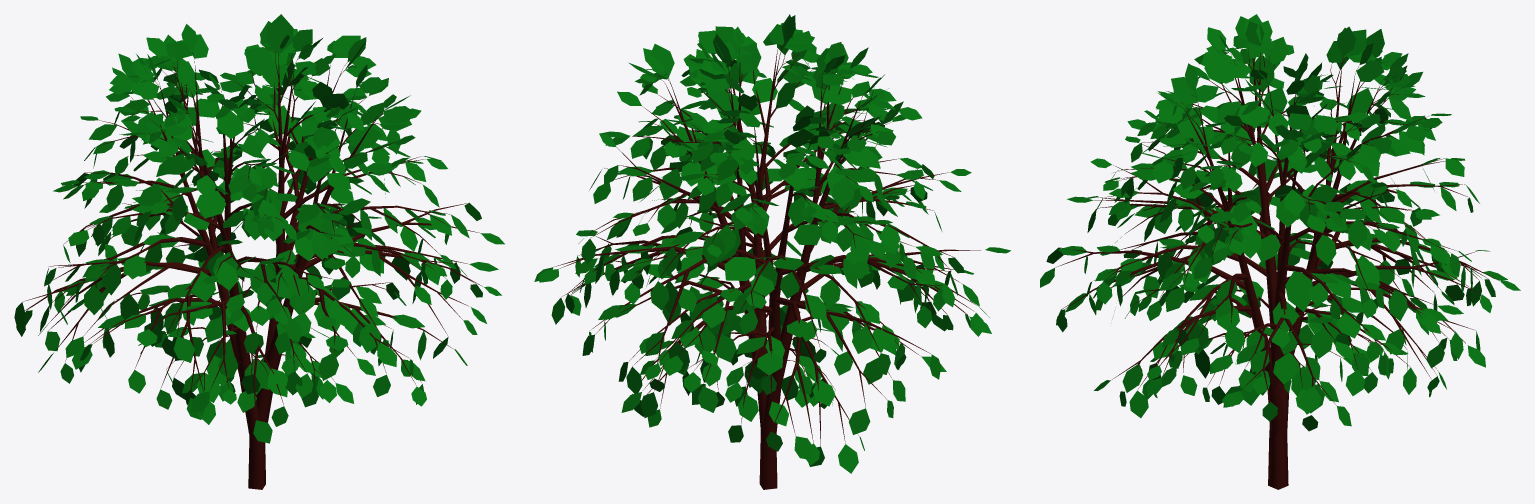
File: Brush.fbx
3 views of the same model, side by side, from view 1: azimuth 30°, elevation 25°; view 2: azimuth 150°, elevation 25°; view 3: azimuth 270°, elevation 25° (orthographic).
Parts seen in each view (by area): view 1: tree; view 2: tree; view 3: tree.
Part boxes in pixels (x1,y1,x2,y2): tree: (14,14,504,489); tree: (534,14,1010,489); tree: (1040,14,1520,489).
Bounding box in the file's own units: 1530 × 1566 × 1513.
